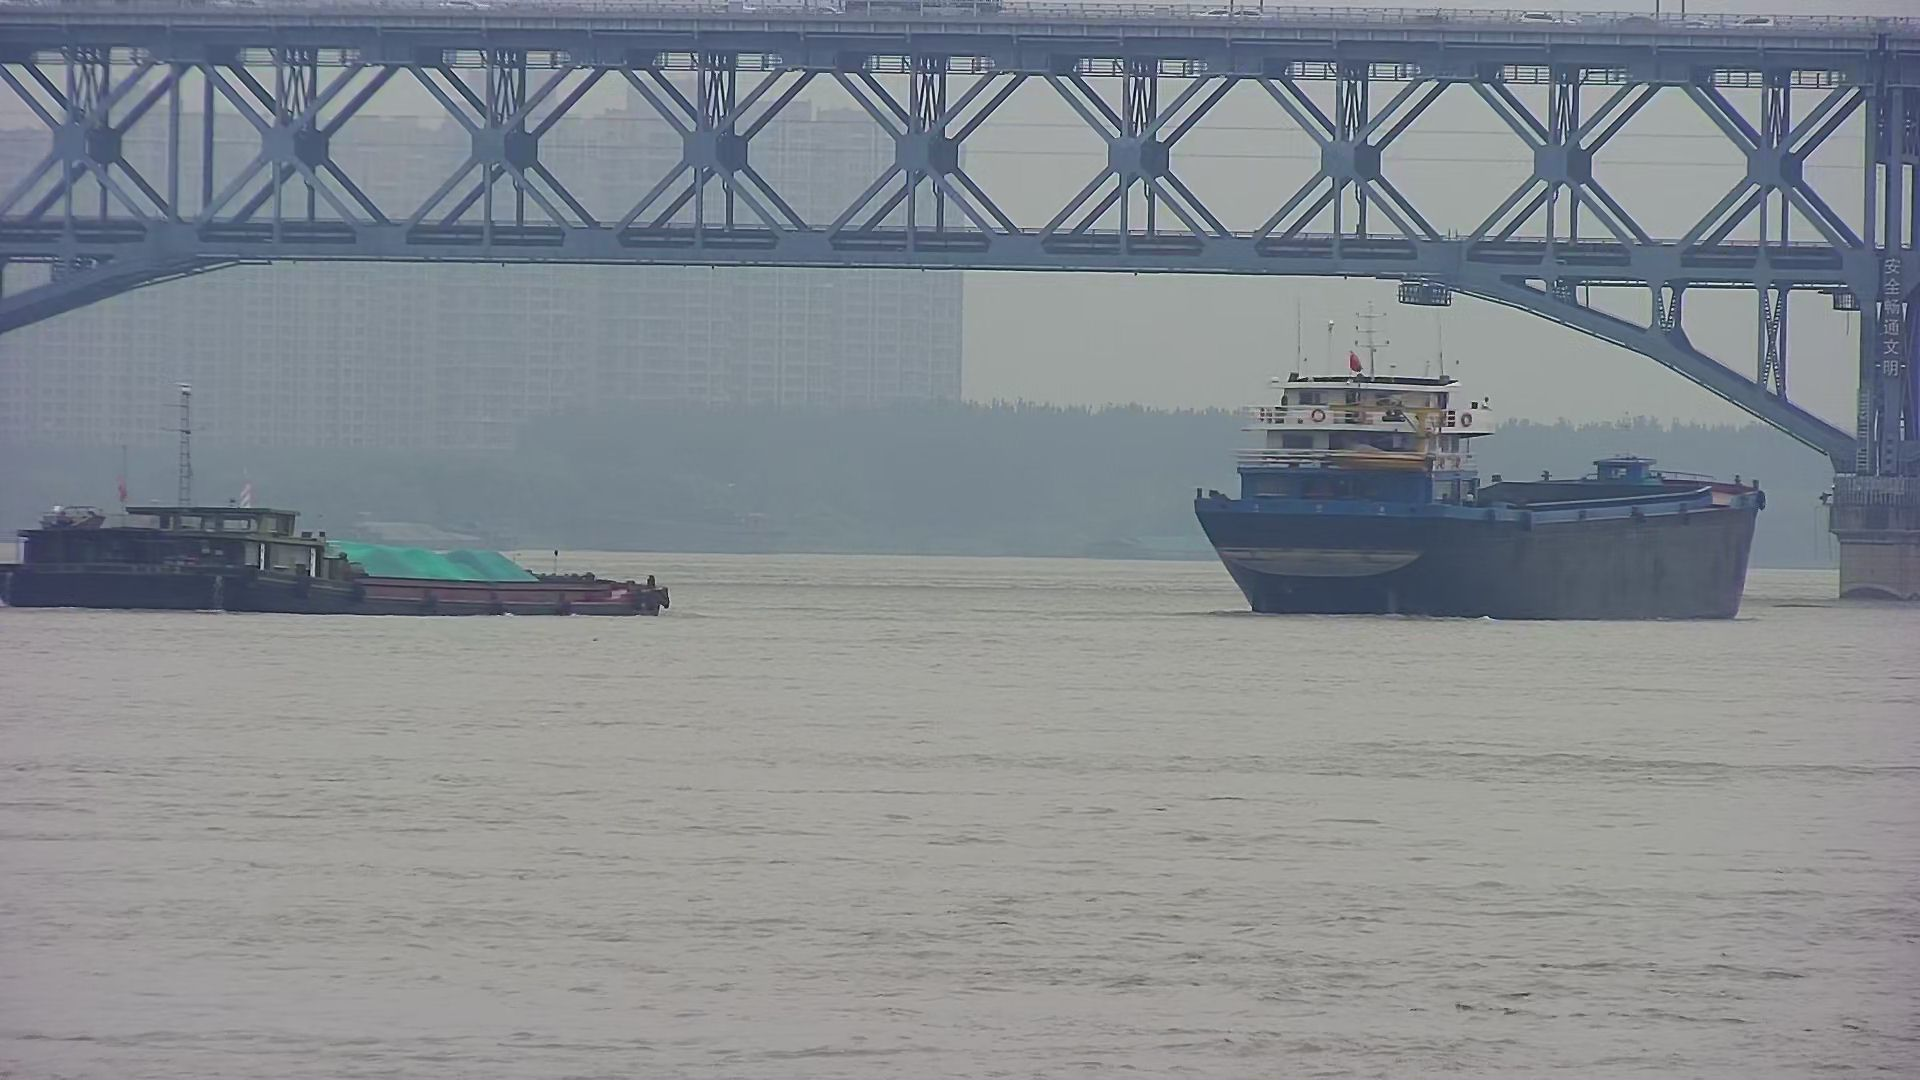bridge: (4, 7, 1904, 386)
ship: (1200, 328, 1771, 625), (7, 402, 670, 626)
